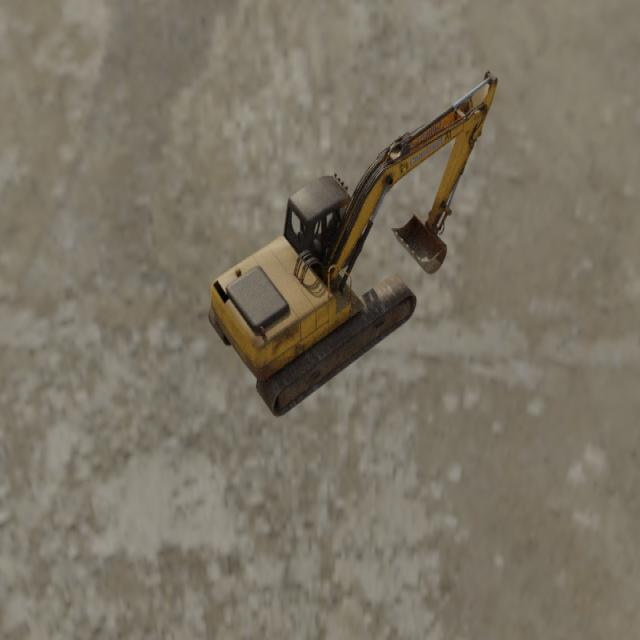excavator: (207, 70, 498, 418)
